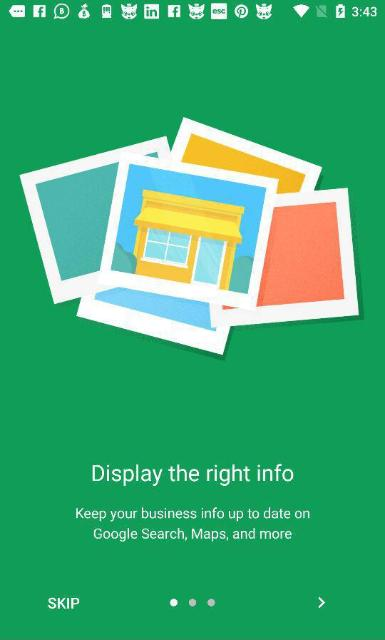Icon: (316, 596, 325, 608)
Image: (19, 115, 365, 359)
PageIndicator: (168, 597, 216, 607)
Text: (74, 506, 310, 544), (92, 462, 292, 486), (47, 596, 79, 610)
UpperTaskBar: (0, 0, 384, 22)
